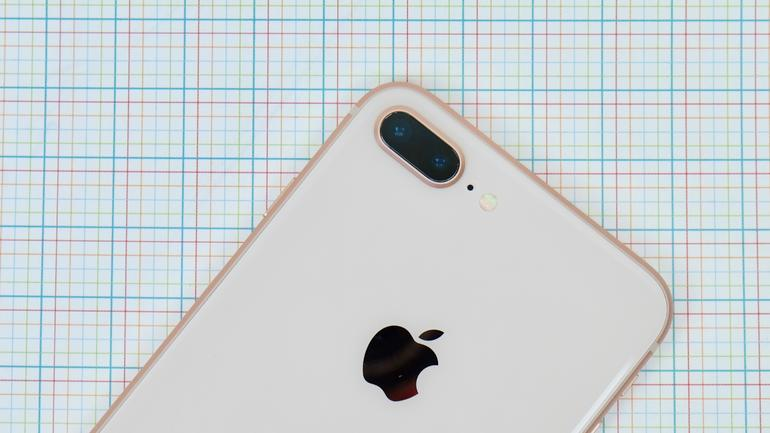apple: (352, 310, 459, 411)
